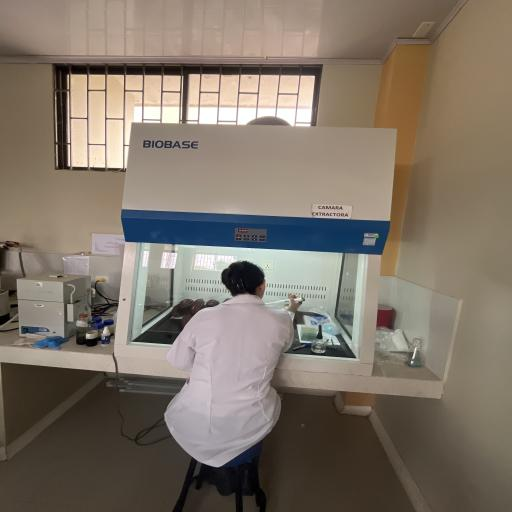Camara_Extractora_Biobase: (114, 112, 400, 388)
